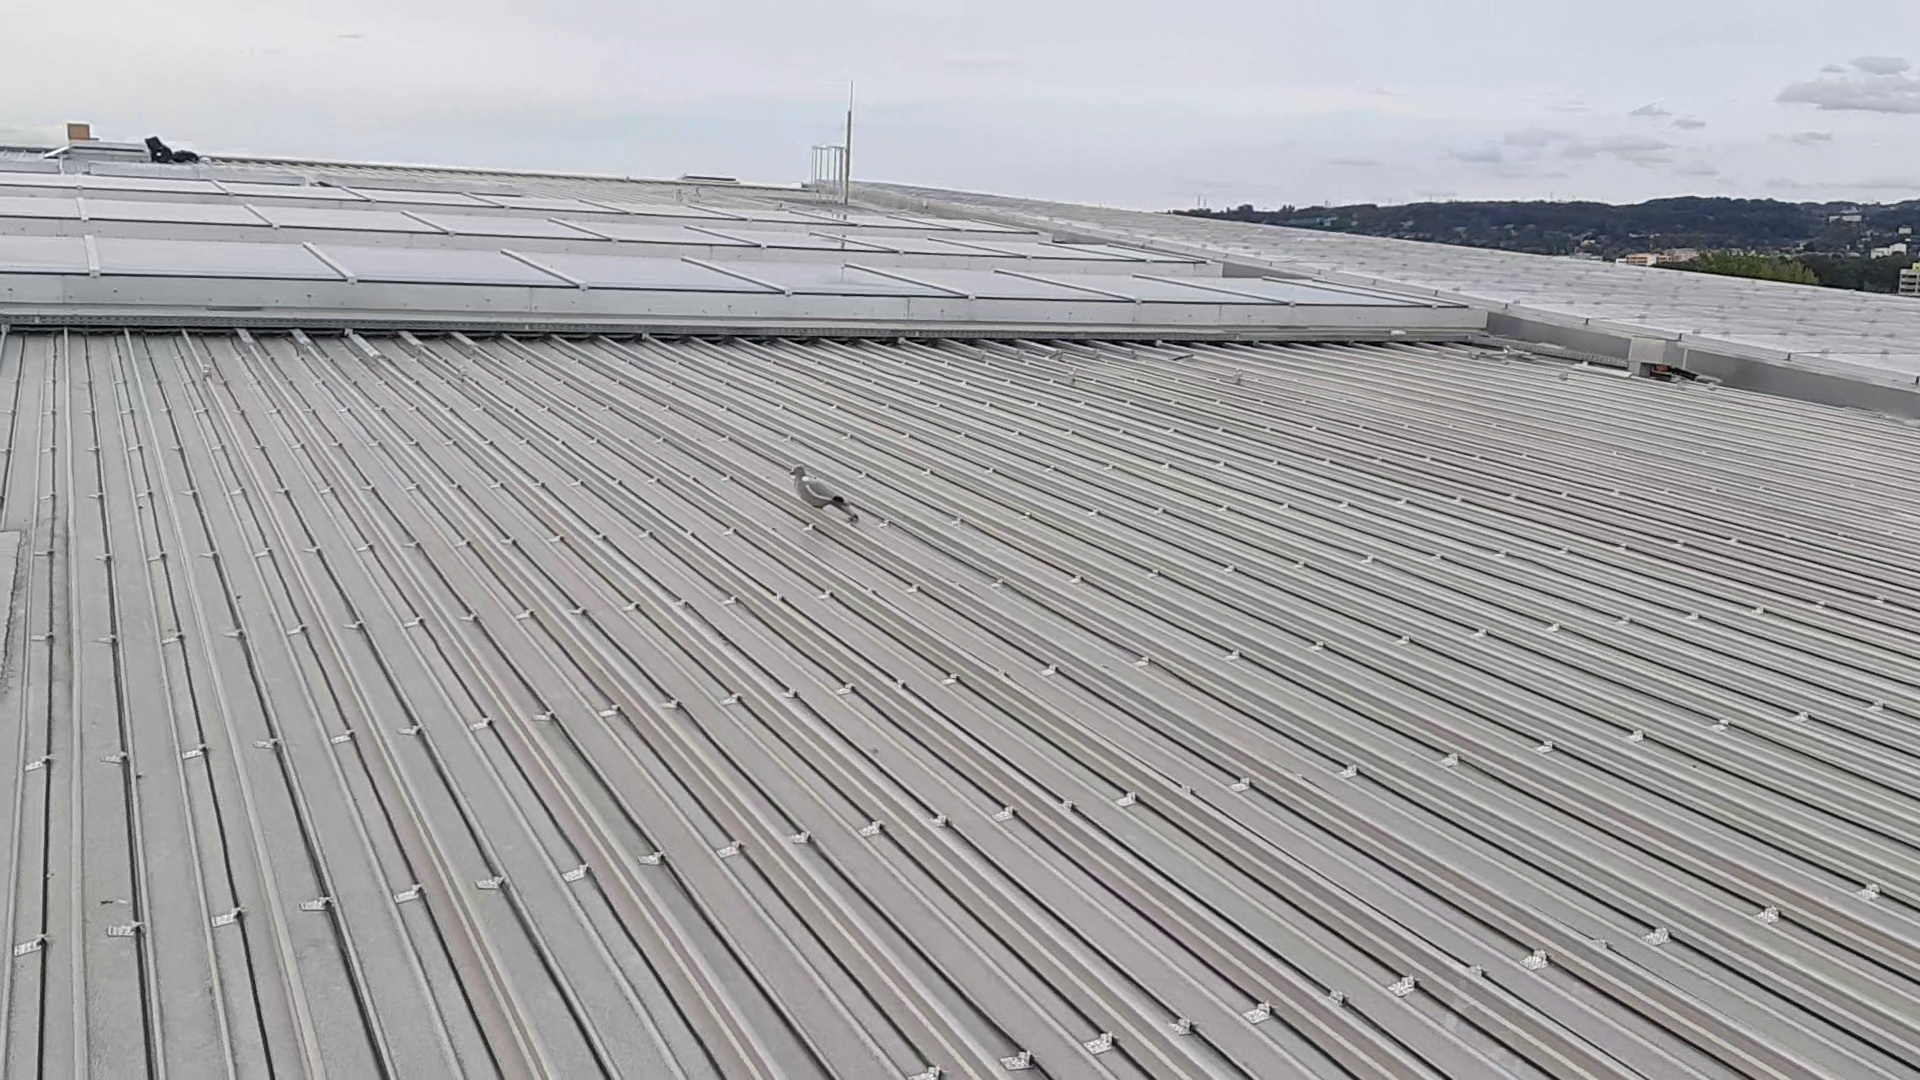Pigeon: (783, 464, 868, 524)
